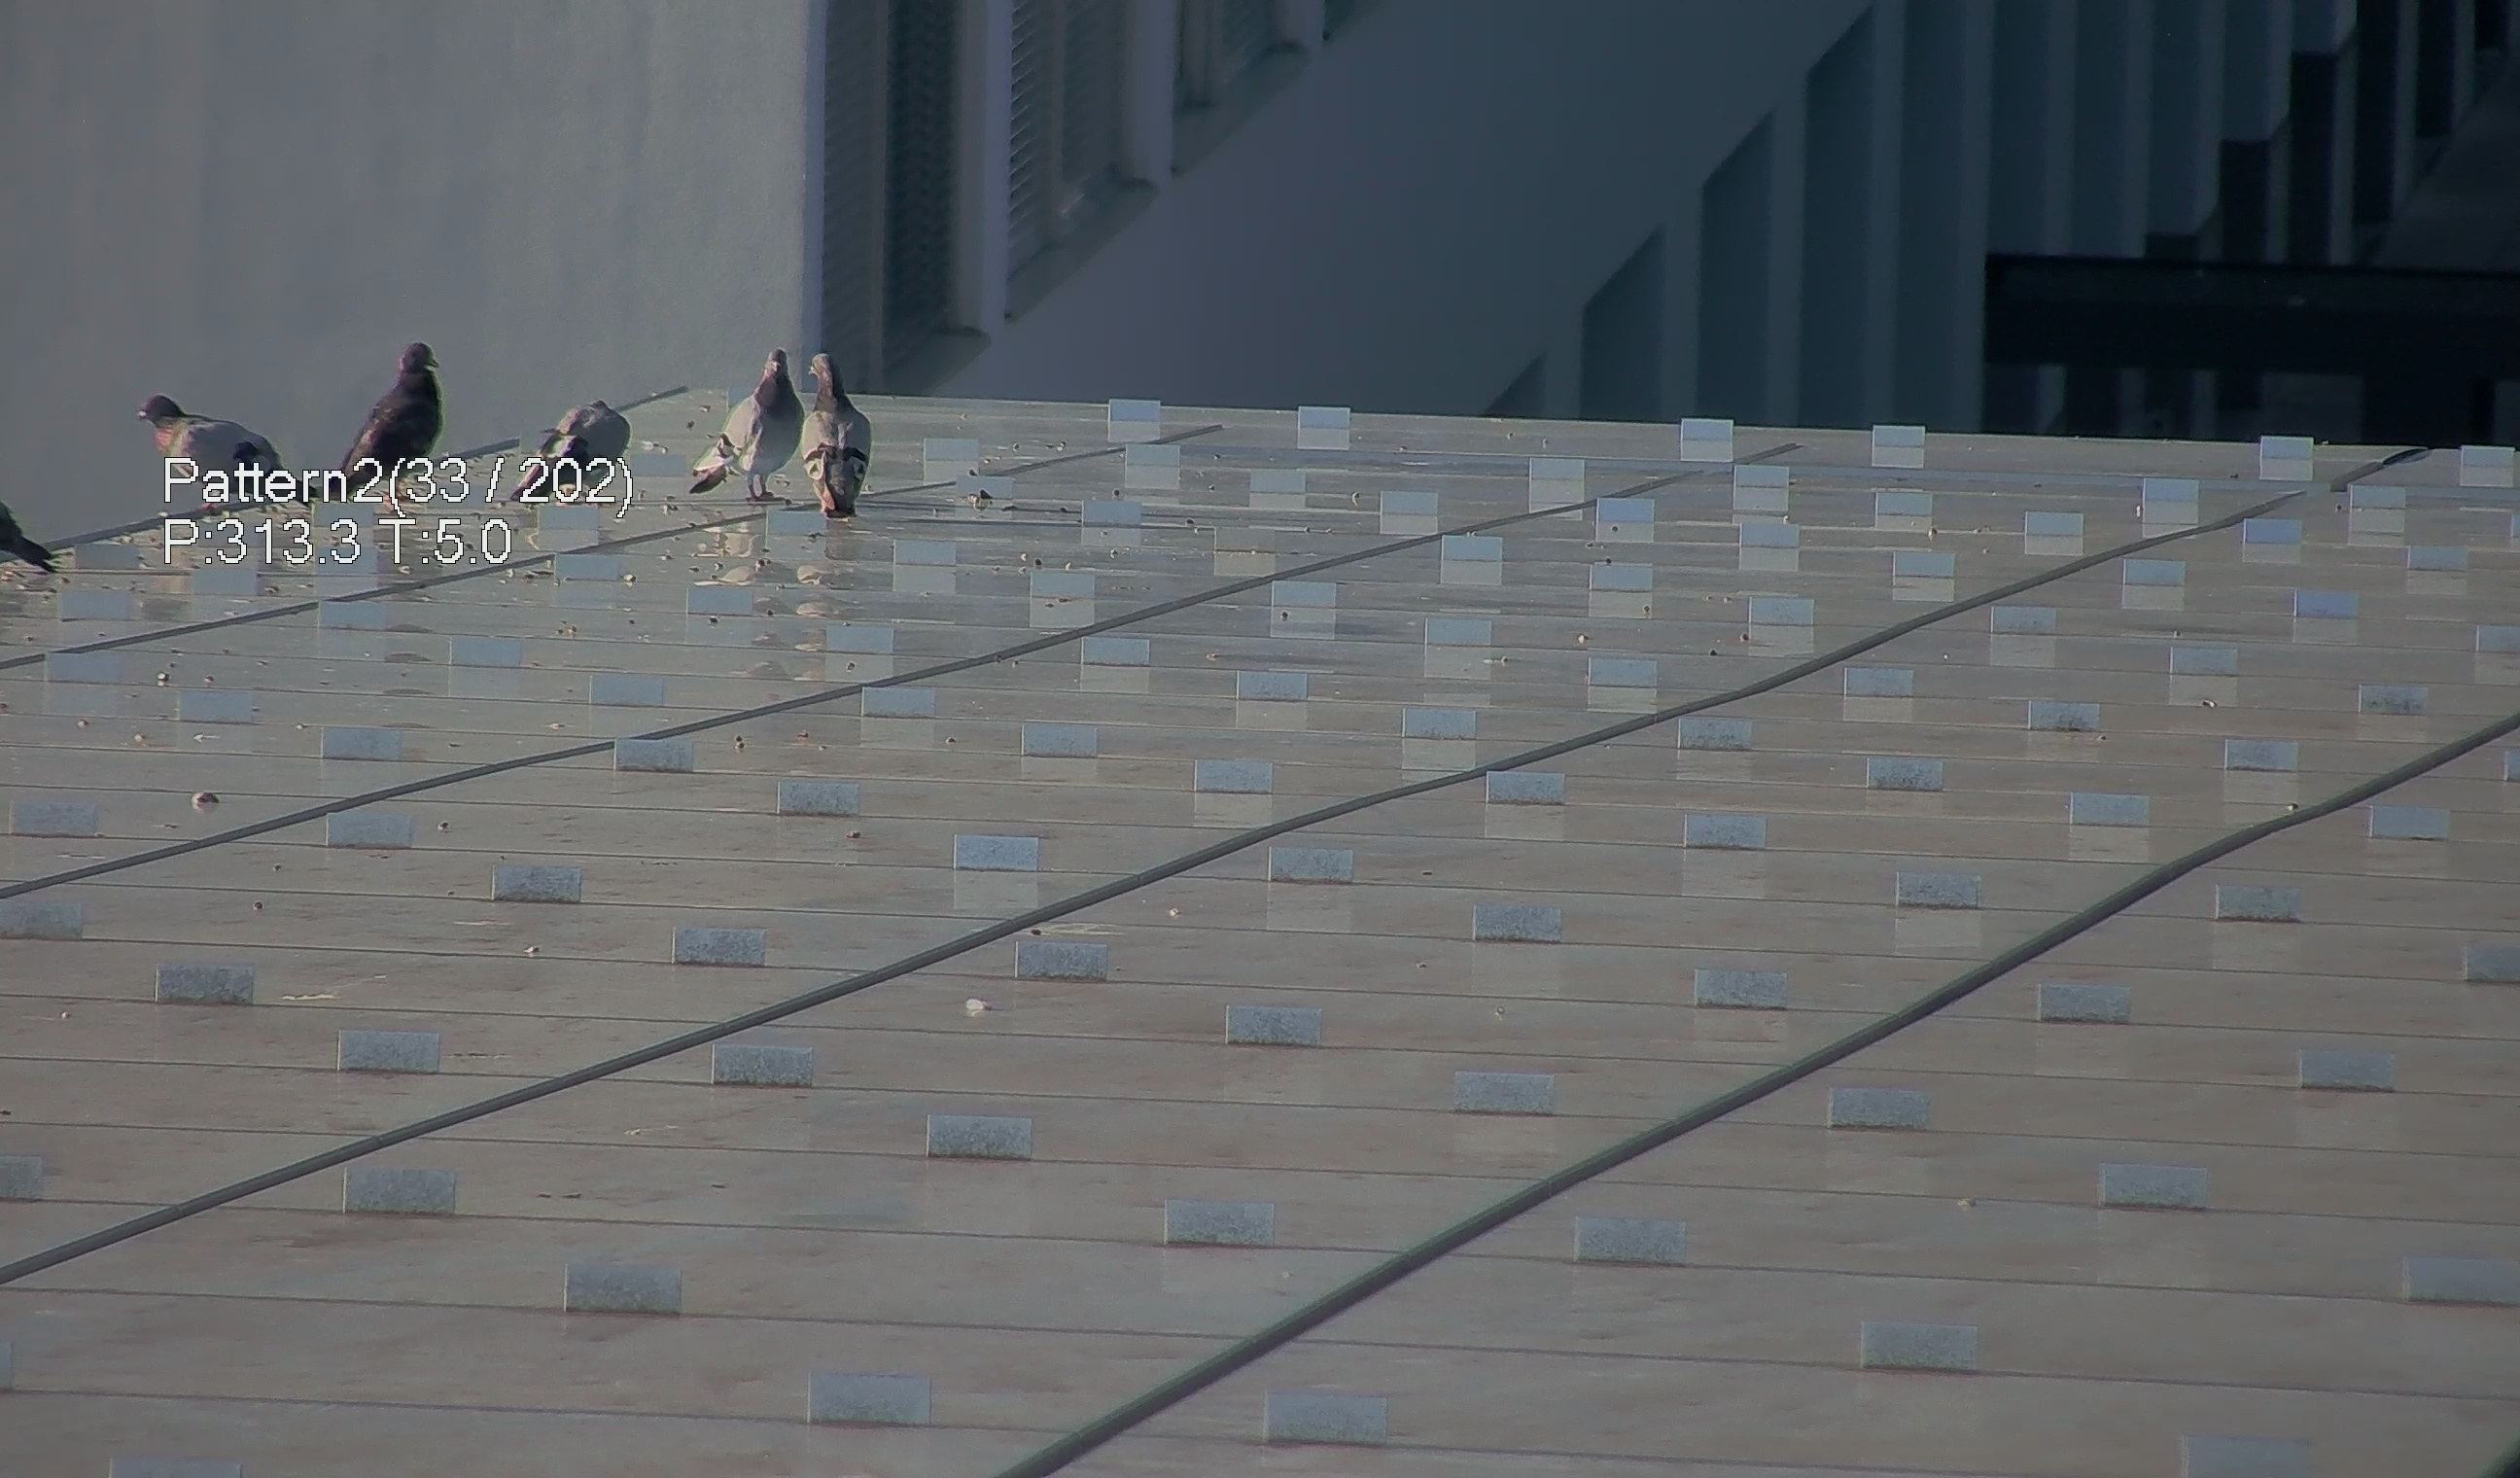Pigeon: (125, 380, 317, 491), (313, 331, 440, 486), (510, 380, 645, 514), (681, 347, 797, 493), (781, 338, 865, 512), (2, 470, 67, 586)
